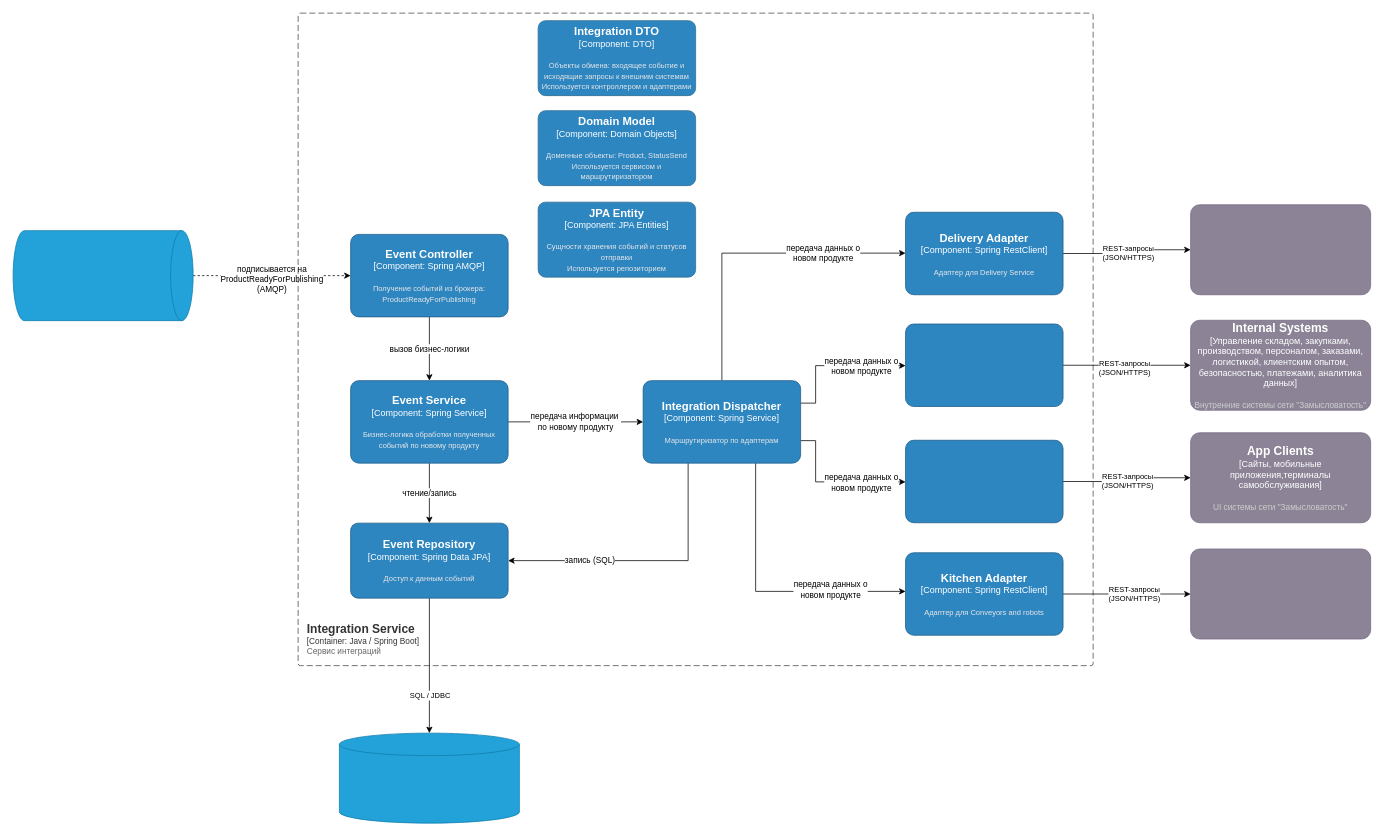
The diagram is 1384 pixels wide and 836 high, and some of its shapes have lost their labels. Here are the shapes that lost their labels. From the top down, the centre of each, then its label:
(1280,249): Delivery Service [UberUniverse Eats, DeliverWorld] Внешние службы доставки
(102,275): Message Broker [Container: RabbitMQ] Шина доменных событий
(984,364): ERP Adapter [Component: Spring RestClient] Адаптер для Internal Systems
(984,481): Menu Adapter [Component: Spring RestClient] Адаптер для App Clients
(1280,593): Conveyors and robots [Оборудование кухни]
(429,777): Integration DB [Container: PostgreSql] Хранение событий и статусов отправки
